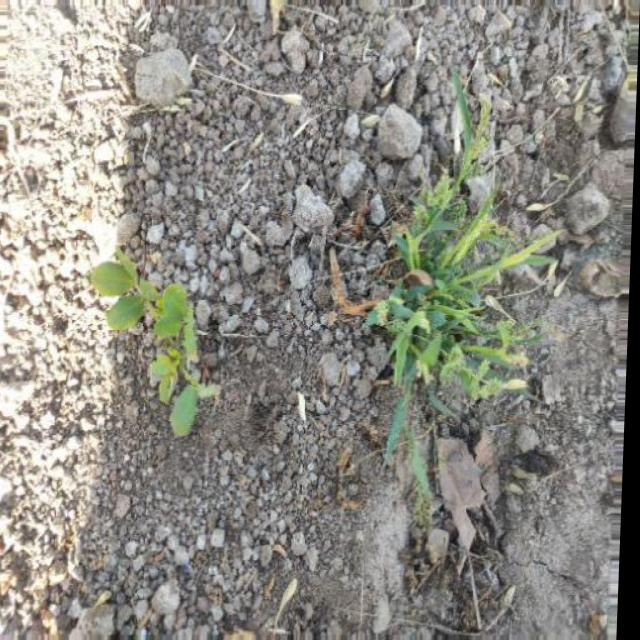weed: (360, 124, 559, 428), (76, 244, 219, 446)
